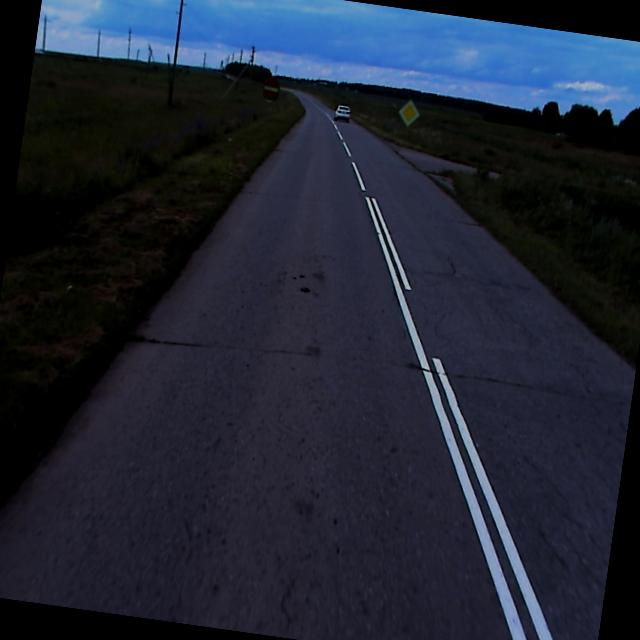road: (0, 90, 636, 640)
